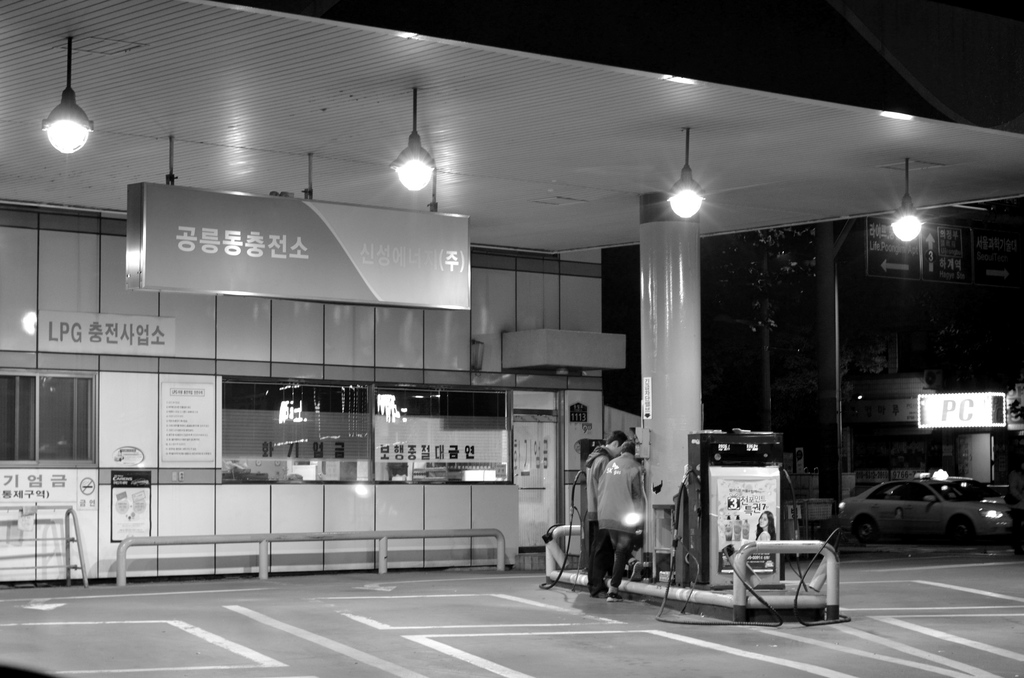Car: (839, 481, 1022, 555)
